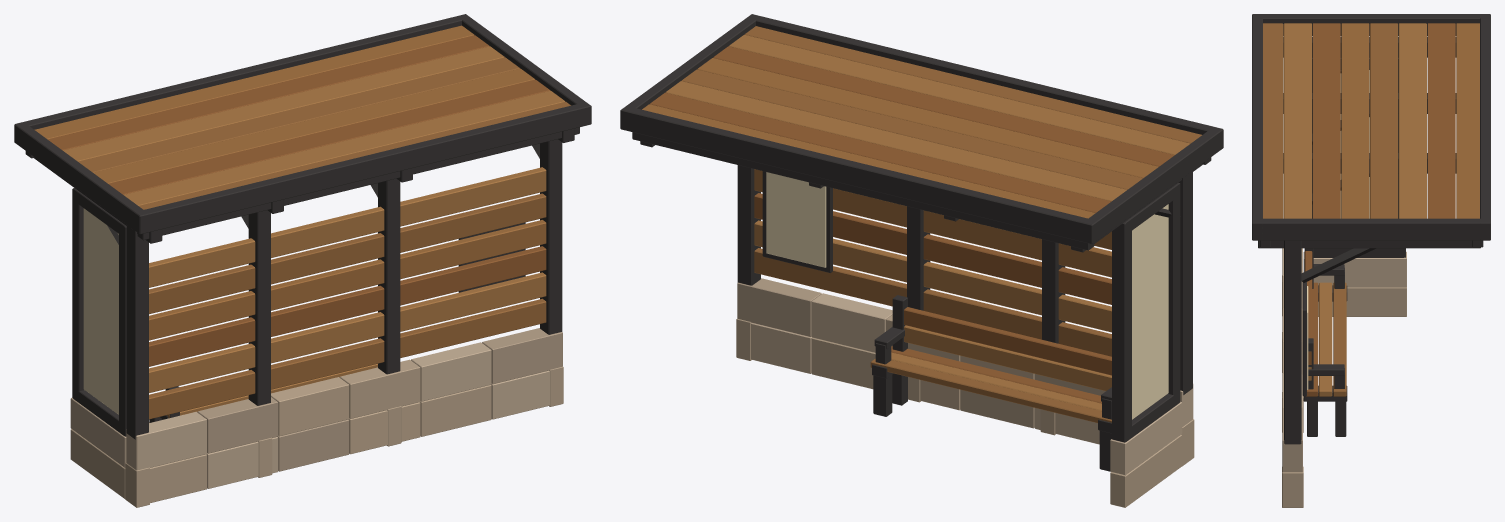
Rendered from tram_shelter.glb.
3 renders of one model, left to right at view 1: azimuth 30°, elevation 25°; view 2: azimuth 150°, elevation 25°; view 3: azimuth 270°, elevation 25°, orthographic. The views are drawn at different scales.
Visible parts, largest first — view 1: shelter; view 2: shelter; view 3: shelter.
Part boxes in pixels (x1,y1,x2,y2): shelter: (14, 14, 591, 507); shelter: (620, 14, 1223, 507); shelter: (1252, 14, 1490, 507).
Size of the model in its own units: 4.55 by 2.95 by 2.19.
